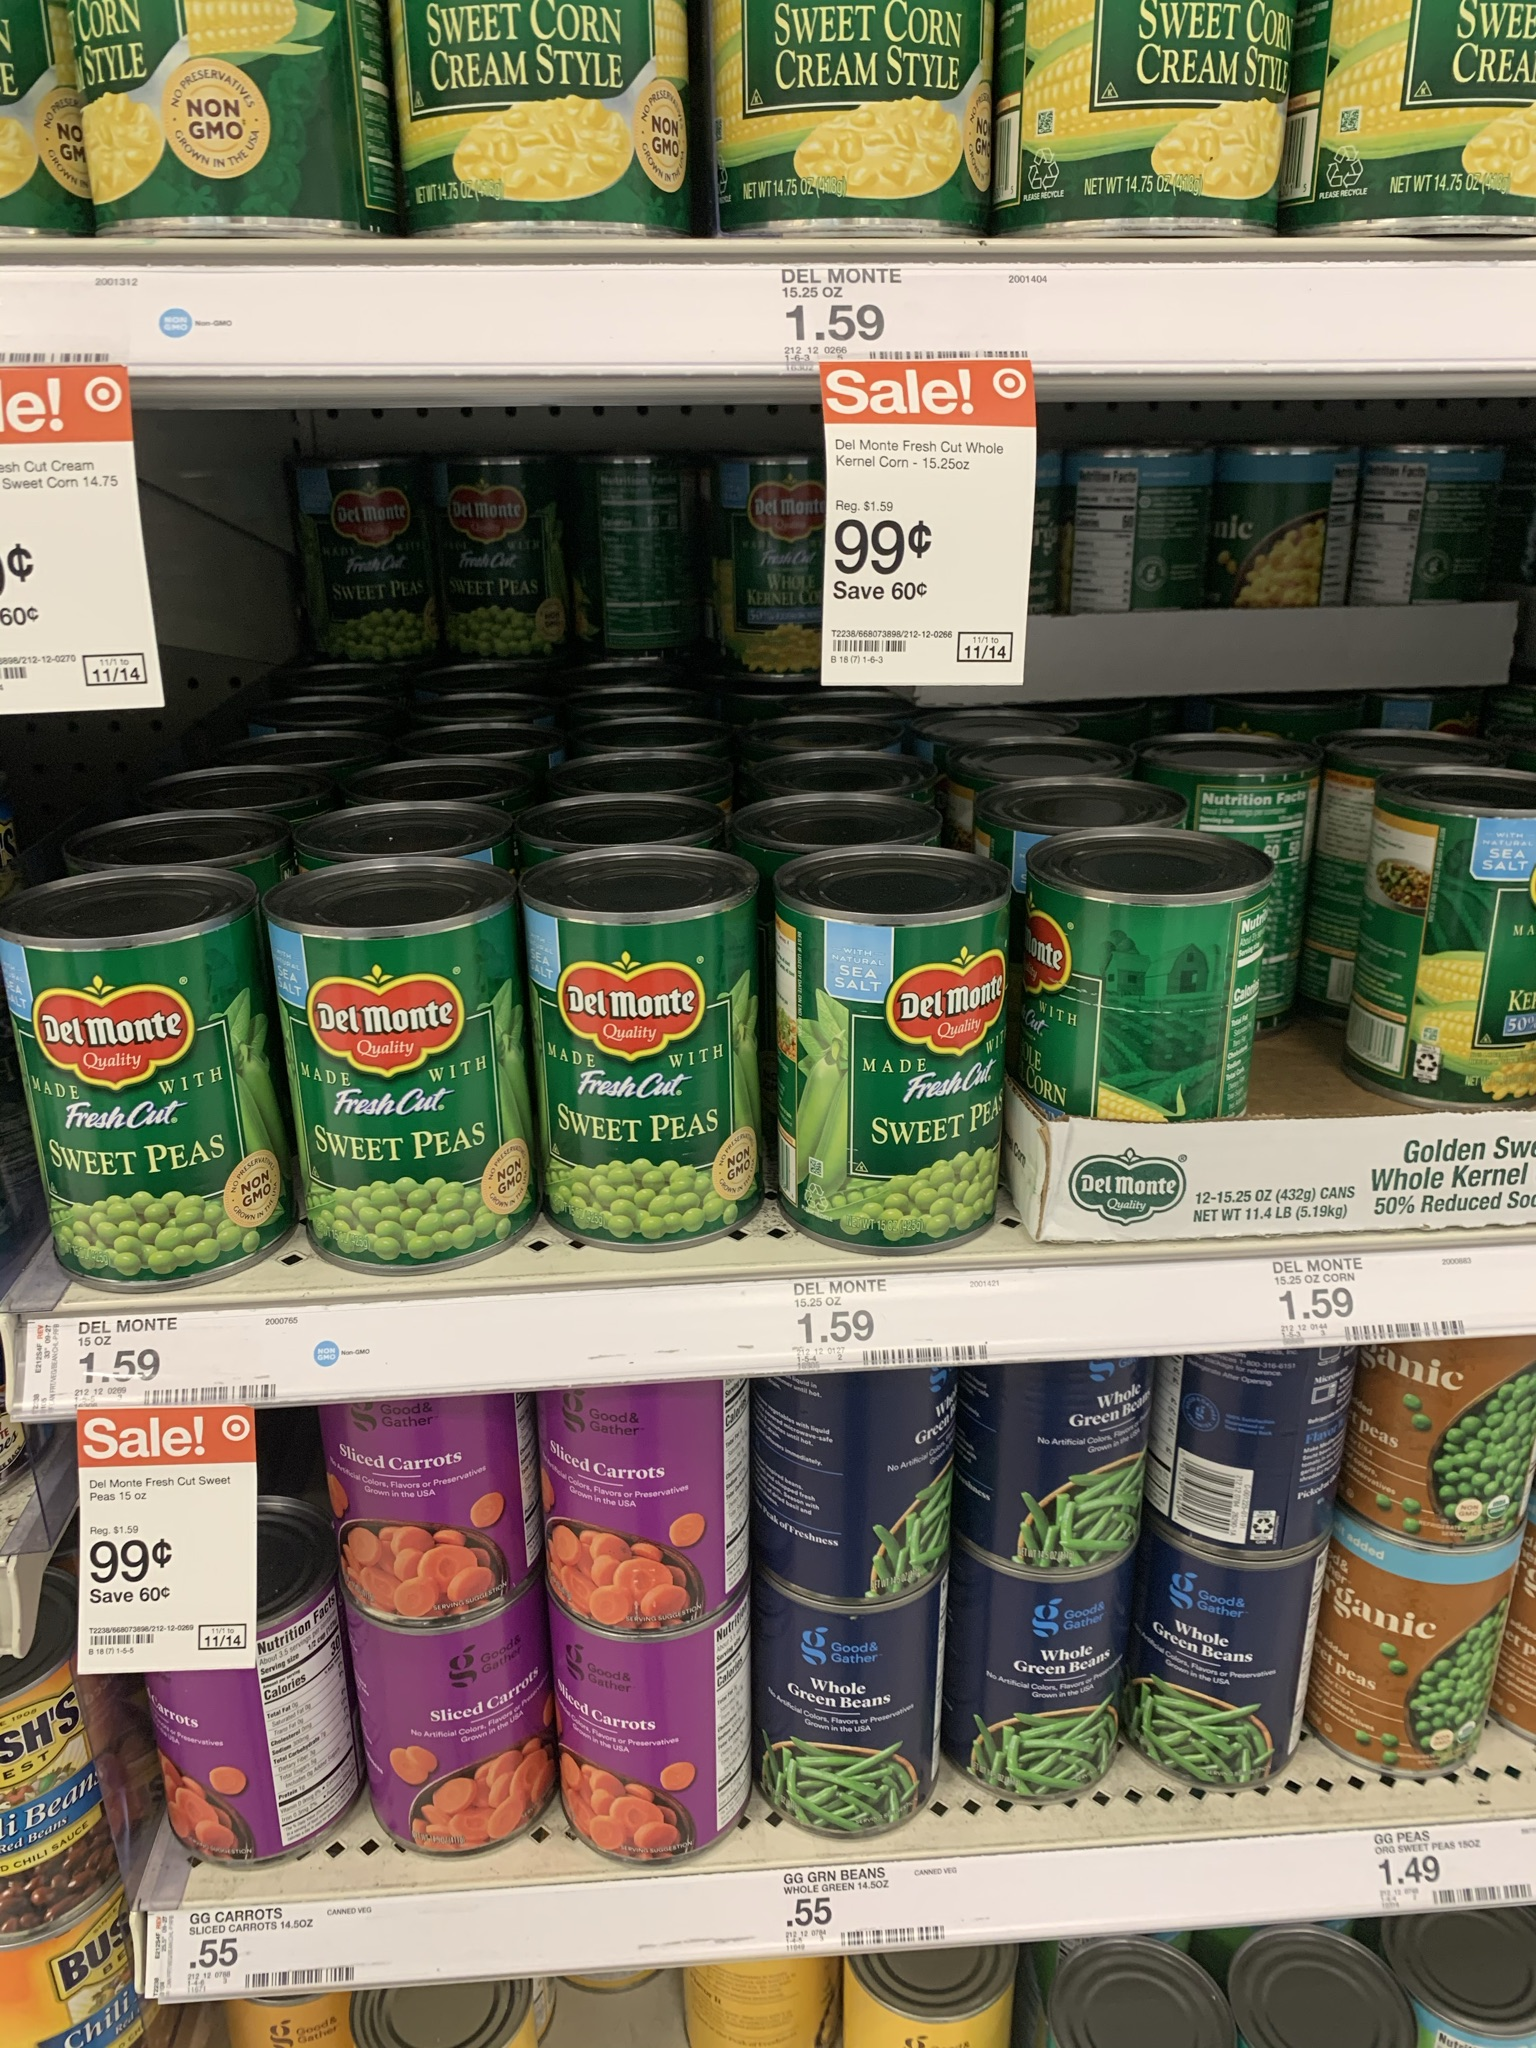can: (2, 916, 282, 1268), (766, 898, 1018, 1258), (273, 918, 523, 1272), (524, 905, 763, 1251), (1026, 877, 1270, 1130), (541, 1387, 752, 1630), (316, 1401, 542, 1629), (1318, 1534, 1518, 1785), (541, 1630, 757, 1863), (342, 1629, 549, 1858), (758, 1372, 957, 1608), (1155, 1355, 1355, 1559), (962, 1367, 1149, 1577), (949, 1579, 1128, 1796), (1144, 1559, 1313, 1784)
